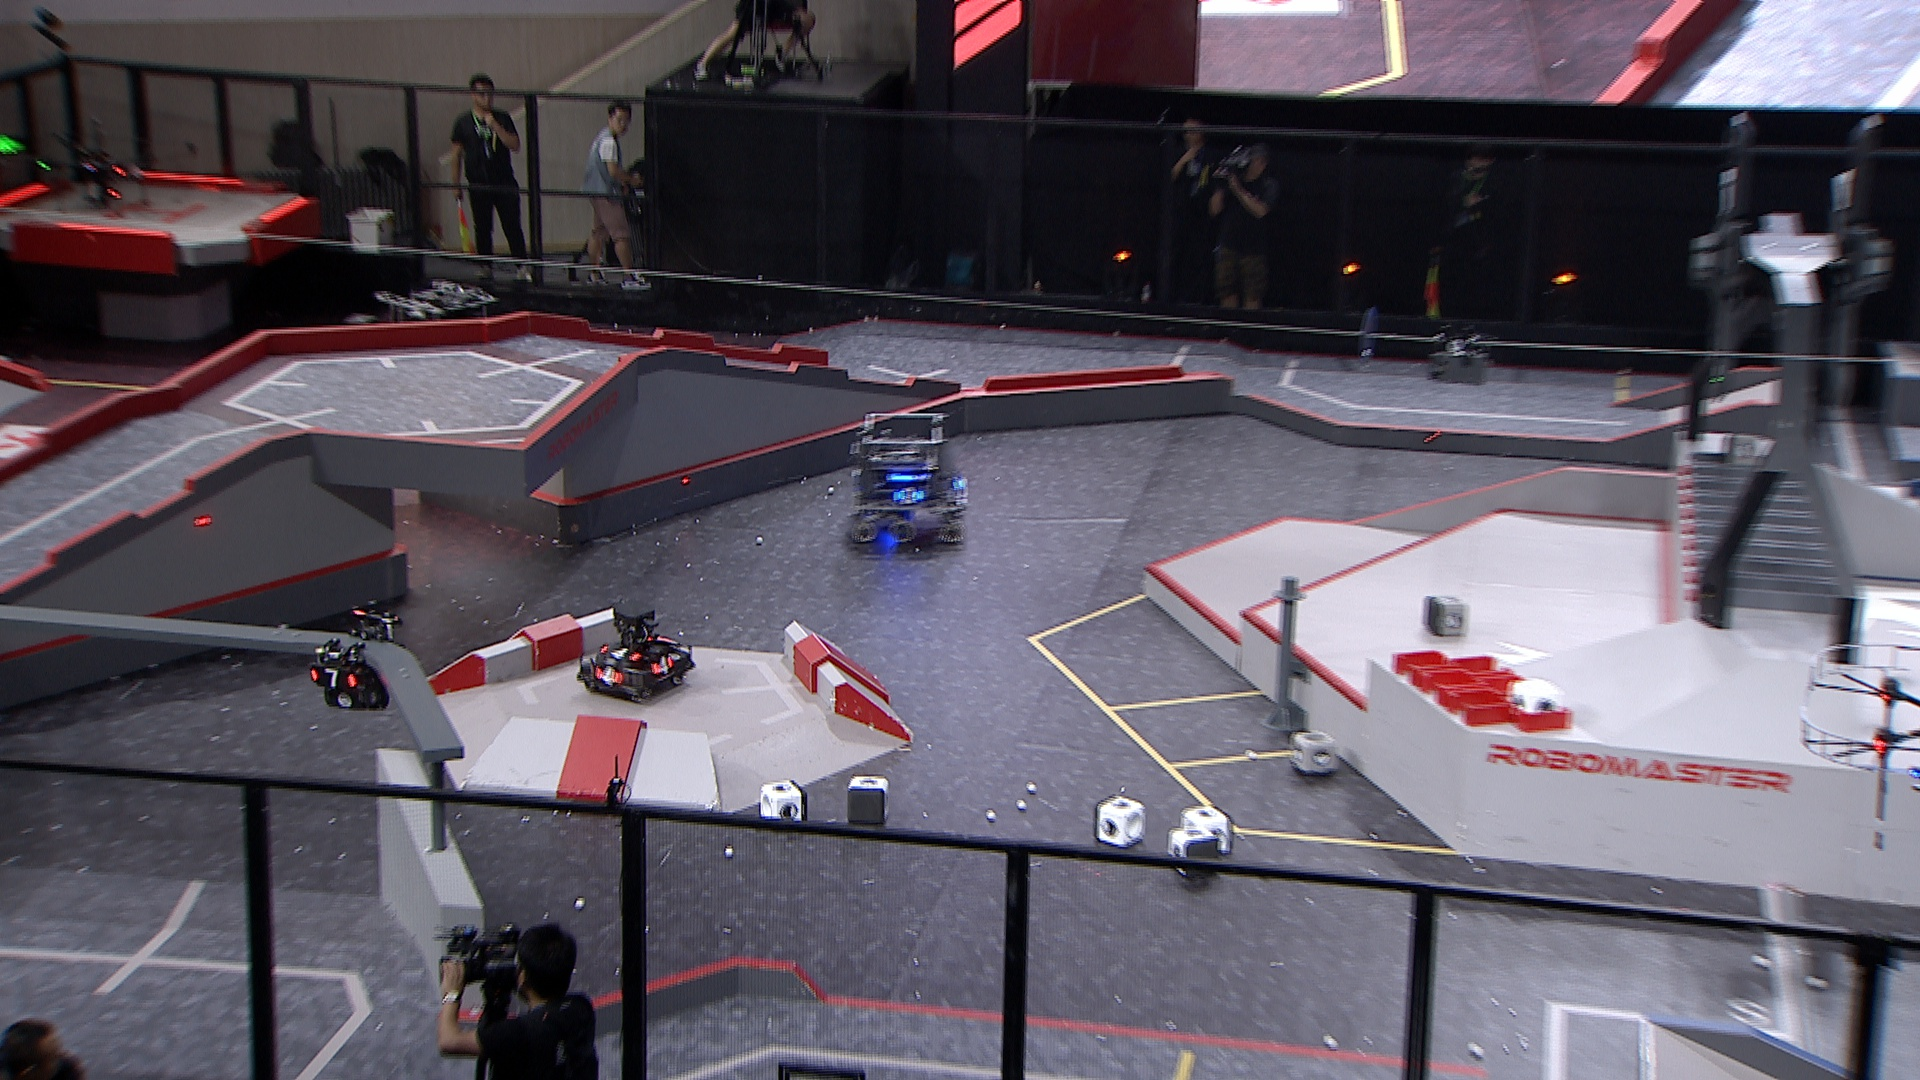armor: (306, 665, 357, 690), (593, 666, 628, 688), (599, 644, 638, 662), (891, 485, 926, 506), (647, 655, 675, 675), (949, 473, 964, 491)
car: (845, 410, 971, 549), (372, 281, 498, 394), (574, 605, 698, 703)
watcher: (305, 603, 400, 712)
